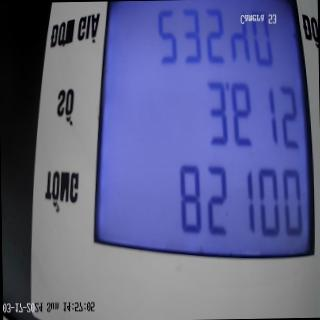screen: (85, 0, 318, 275)
